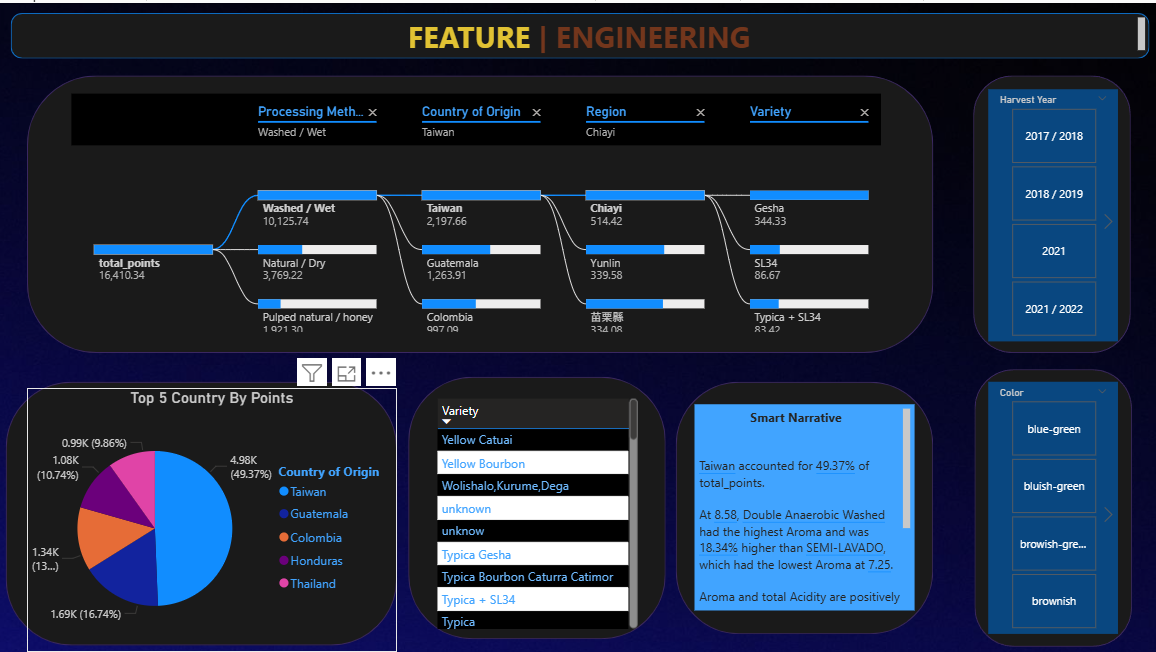

Layout of this report page (visuals, bound fields, positions):
{"tool":"powerbi","page":{"name":"FE","canvas":[1280,720],"ordinal":2},"visuals":[{"type":"shape","box":[9.6,415.8,429.5,289.5],"z":0},{"type":"pieChart","title":"Top 5 Country By Points","fields":{"Category":["df_arabica_clean.Country of Origin"],"Y":["df_arabica_clean.total_points"]},"box":[32.9,422.6,406.2,289.5],"z":1000},{"type":"shape","box":[451.5,410.3,282.7,288.2],"z":2000},{"type":"tableEx","fields":{"Values":["df_arabica_clean.Variety"]},"box":[477.5,429.5,230.5,262.1],"z":3000},{"type":"shape","box":[32.9,79.6,994.9,304.6],"z":4000},{"type":"decompositionTreeVisual","fields":{"Analyze":["df_arabica_clean.total_points"],"ExplainBy":["df_arabica_clean.Processing Method","df_arabica_clean.Country of Origin","df_arabica_clean.Region","df_arabica_clean.Variety"]},"box":[76.8,94.7,898.8,271.7],"z":5000},{"type":"shape","box":[15.1,11,1250,50],"z":6000},{"type":"textbox","box":[22,11,1243.2,49.4],"z":7000},{"type":"shape","box":[1071.7,79.6,172.9,304.6],"z":8000},{"type":"slicer","fields":{"Values":["df_arabica_clean.Harvest Year"]},"box":[1088.2,94.7,142.7,277.2],"z":9000},{"type":"shape","box":[745.1,415.8,282.7,277.2],"z":10000},{"type":"textbox","box":[765.7,440.5,241.5,226.4],"z":11000},{"type":"shape","box":[1073.1,402.1,172.9,304.6],"z":12000},{"type":"slicer","fields":{"Values":["df_arabica_clean.Color"]},"box":[1088.2,415.8,142.7,277.2],"z":13000}]}

Visuals, with their boxes in screenshot pixels (x1, y1, x2, y2), scaled from the page's 1280x720 canvas onto the 1156x652 screenshot:
shape: (x1=9, y1=377, x2=397, y2=639)
"Top 5 Country By Points" pieChart: (x1=30, y1=383, x2=397, y2=645)
shape: (x1=408, y1=372, x2=663, y2=633)
tableEx - df_arabica_clean.Variety: (x1=431, y1=389, x2=639, y2=626)
shape: (x1=30, y1=72, x2=928, y2=348)
decompositionTreeVisual - df_arabica_clean.total_points x df_arabica_clean.Processing Method: (x1=69, y1=86, x2=881, y2=332)
shape: (x1=14, y1=10, x2=1143, y2=55)
textbox: (x1=20, y1=10, x2=1143, y2=55)
shape: (x1=968, y1=72, x2=1124, y2=348)
slicer - df_arabica_clean.Harvest Year: (x1=983, y1=86, x2=1112, y2=337)
shape: (x1=673, y1=377, x2=928, y2=628)
textbox: (x1=692, y1=399, x2=910, y2=604)
shape: (x1=969, y1=364, x2=1125, y2=640)
slicer - df_arabica_clean.Color: (x1=983, y1=377, x2=1112, y2=628)
